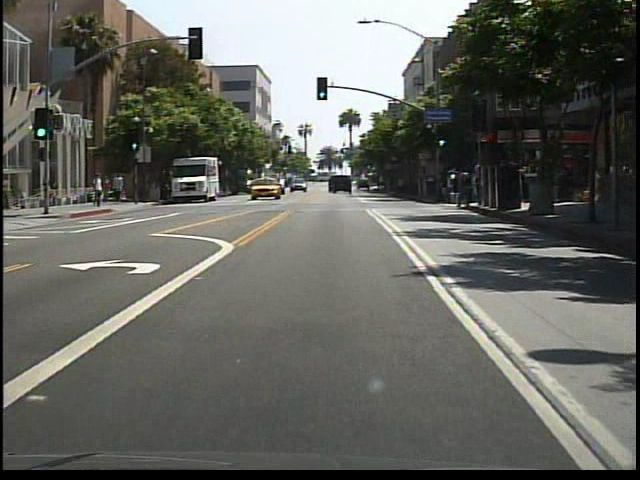person: (112, 171, 128, 204), (93, 173, 106, 210), (42, 182, 58, 210), (104, 175, 116, 204)
